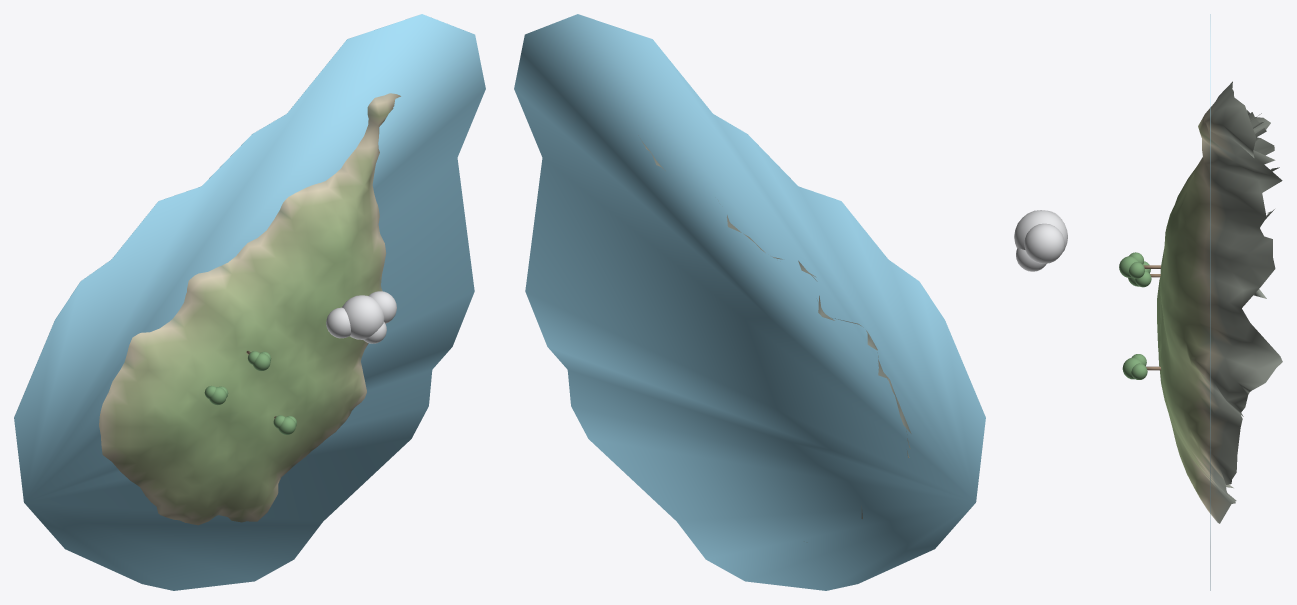
Rendered from dessus.glb.
The picture shows the model from 3 angles, left to right: view 1: azimuth 30°, elevation 25°; view 2: azimuth 150°, elevation 25°; view 3: azimuth 270°, elevation 25°; orthographic projection. The views are drawn at different scales.
Visible parts, largest first — view 1: eau, dessus, nuage; view 2: eau, dessus; view 3: dessus, nuage, eau, cime2, cime1.
Boxes of the visible parts, <box> form: eau: <box>14,14,485,590</box>; dessus: <box>99,93,400,525</box>; nuage: <box>326,291,396,343</box>; eau: <box>514,14,985,590</box>; dessus: <box>638,135,911,542</box>; dessus: <box>1157,81,1282,523</box>; nuage: <box>1014,210,1067,271</box>; eau: <box>1210,14,1210,590</box>; cime2: <box>1119,252,1144,278</box>; cime1: <box>1122,354,1147,379</box>.
Size of the model in its own units: 38.67 by 41.23 by 15.91.
